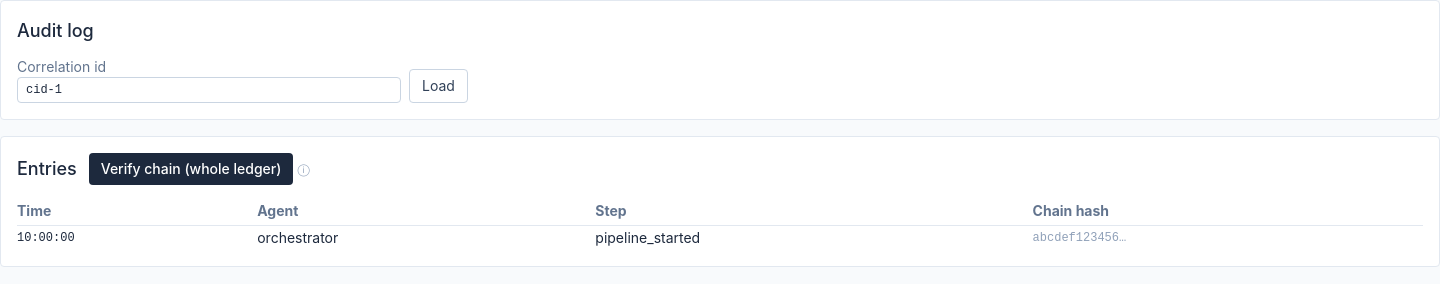
Test: AuditPage › shows the first break when the chain is broken
Step 1. Click the button "Verify chain (whole ledger)" → point(191, 169), box [89,153,293,185]
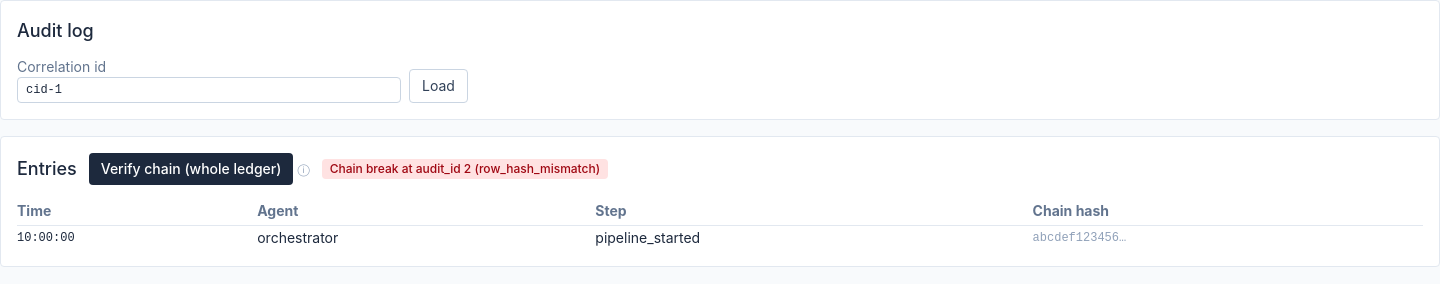
Expected: the text "Chain break at audit_id 2 (row_hash_mismatch)" is shown, [322,159,608,179]
